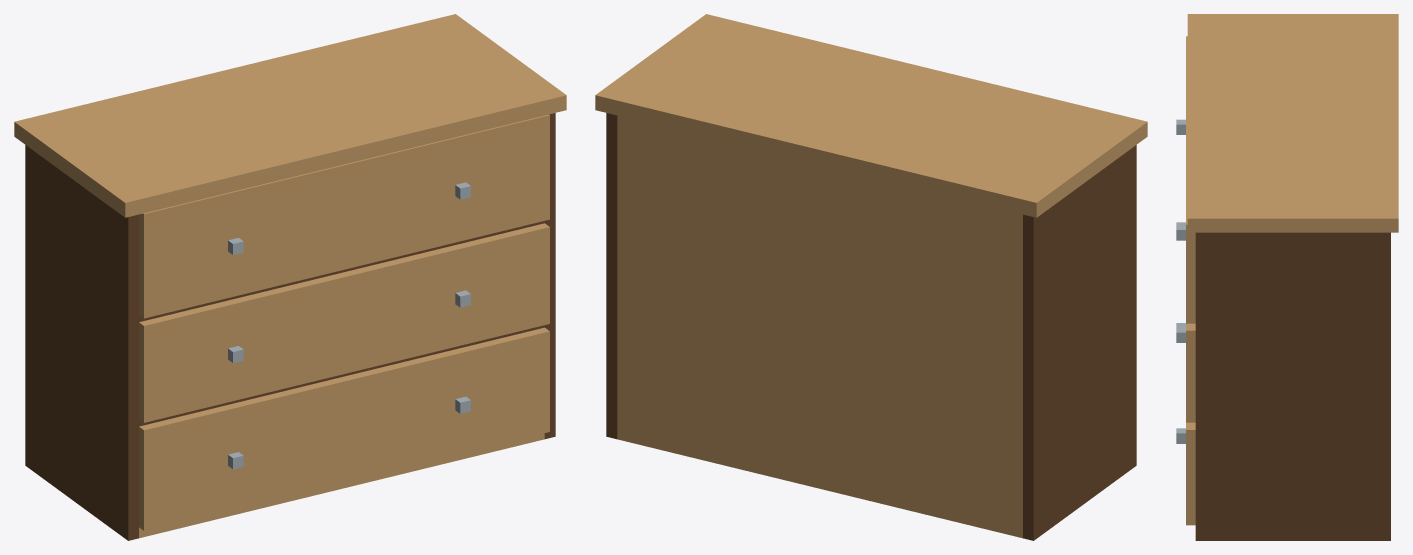
File: GI_Dresser_01.glb
3 renders of one model, left to right at view 1: azimuth 30°, elevation 25°; view 2: azimuth 150°, elevation 25°; view 3: azimuth 270°, elevation 25°, orthographic. The views are drawn at different scales.
Visible parts, largest first — view 1: GI_Dresser_01, Drawer1, Drawer3, Drawer2; view 2: GI_Dresser_01; view 3: GI_Dresser_01, Drawer3, Drawer1, Drawer2.
Boxes of the visible parts, left/top/right/bottom form: GI_Dresser_01: left=14, top=14, right=566, bottom=540; Drawer1: left=139, top=327, right=549, bottom=530; Drawer3: left=139, top=114, right=549, bottom=318; Drawer2: left=139, top=223, right=549, bottom=422; GI_Dresser_01: left=595, top=14, right=1147, bottom=540; GI_Dresser_01: left=1187, top=14, right=1398, bottom=540; Drawer3: left=1176, top=36, right=1195, bottom=323; Drawer1: left=1176, top=323, right=1195, bottom=525; Drawer2: left=1176, top=222, right=1195, bottom=422.
Size of the model in its own units: 1.24 by 0.92 by 0.5695.
1 material, 1 textured.
